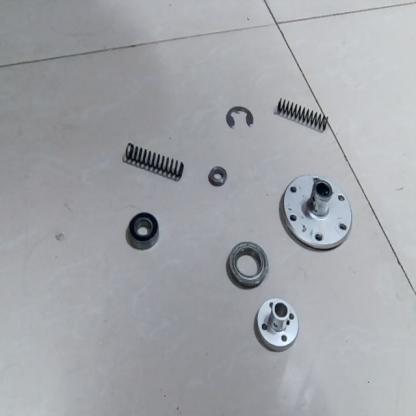FOD: (279, 170, 355, 256), (254, 295, 302, 354), (122, 140, 188, 182), (274, 93, 332, 134), (224, 240, 270, 291), (124, 207, 162, 253), (221, 104, 256, 132), (208, 163, 228, 191)
